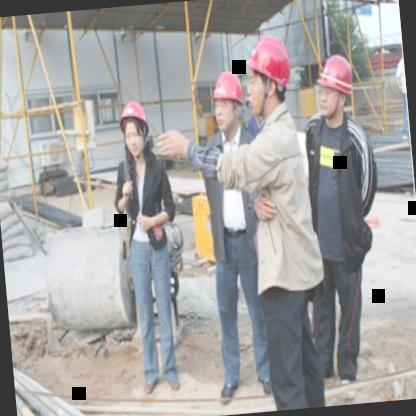helmet: (240, 32, 296, 117), (313, 54, 359, 124), (208, 68, 249, 136), (115, 95, 153, 160)
